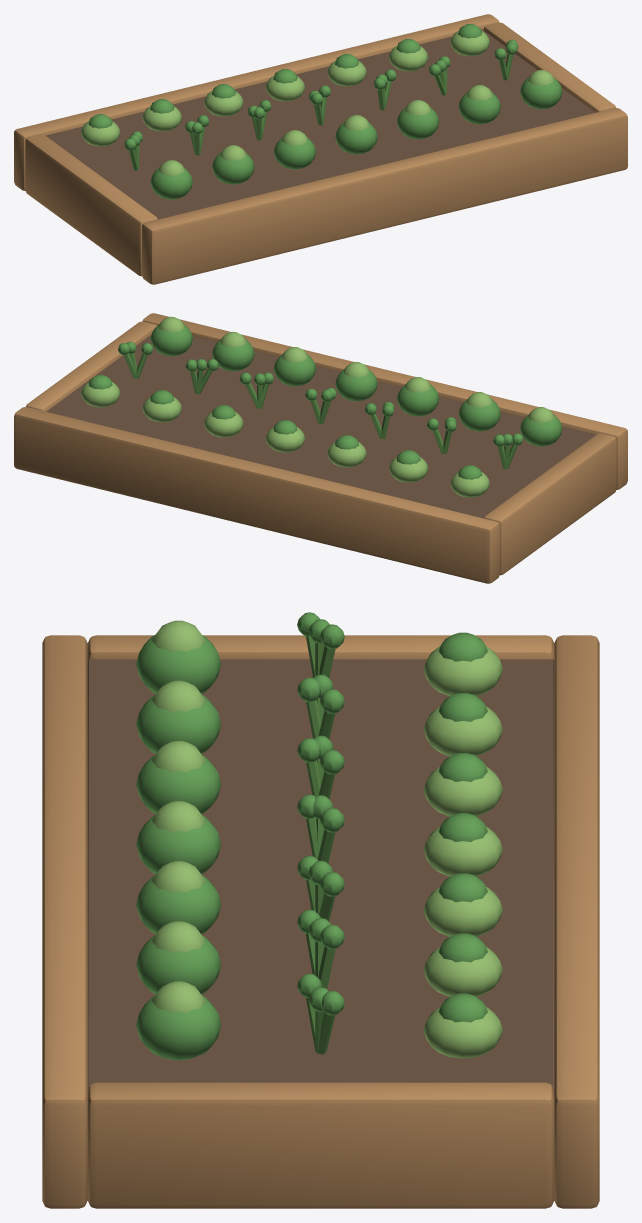
File: veg_bed.glb
3 views of the same model, one above another, from view 1: azimuth 30°, elevation 25°; view 2: azimuth 150°, elevation 25°; view 3: azimuth 270°, elevation 25° (orthographic). The views are drawn at different scales.
Visible parts, largest first — view 1: crate, soil, leaf, food_b, stem; view 2: crate, soil, leaf, food_b, stem; view 3: soil, crate, leaf, food_b, stem.
Boxes of the visible parts, x1,y1,x2,y2 form: crate: (14,14,627,284); soil: (45,29,595,219); leaf: (88,24,562,199); food_b: (80,30,554,175); stem: (129,54,513,170); crate: (14,313,627,583); soil: (46,335,596,518); leaf: (88,324,562,479); food_b: (80,316,554,497); stem: (124,353,517,469); soil: (87,659,554,1089); crate: (42,635,599,1208); leaf: (136,612,487,1060); food_b: (152,620,502,1058); stem: (306,636,335,1054).
Bounding box in the file's own units: 1.94 × 0.342 × 0.98.
